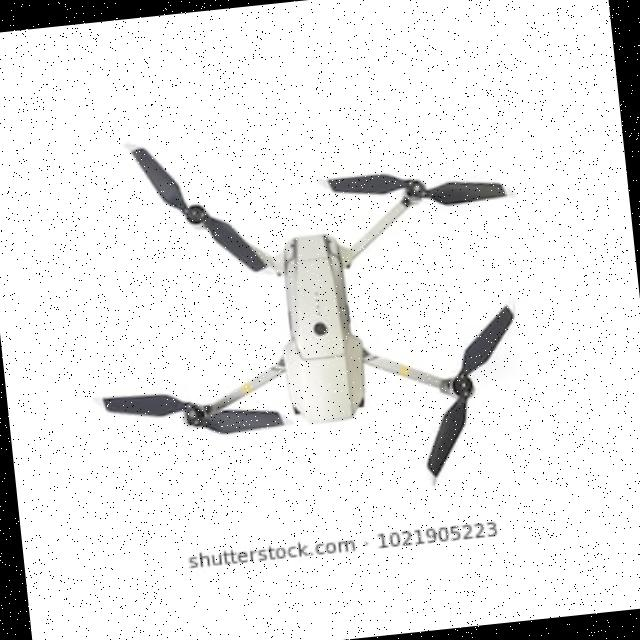Drones: (84, 100, 534, 524)
